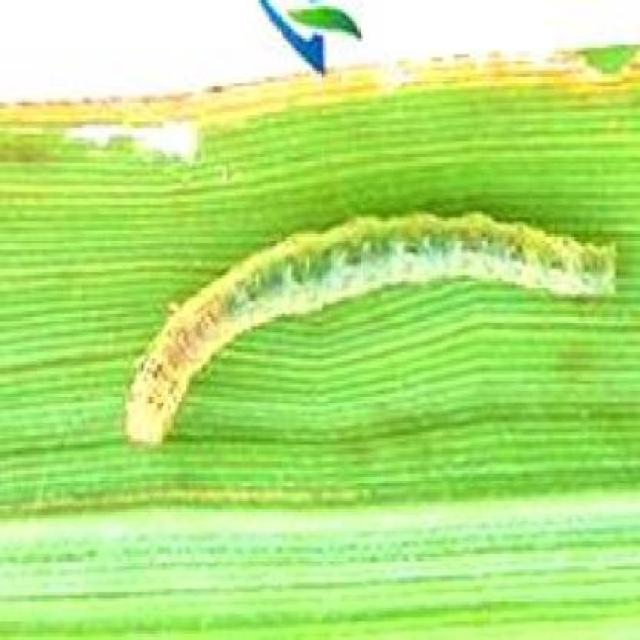leaf-folder: (107, 178, 618, 460)
